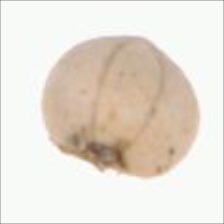L5: (91, 36, 166, 152), (56, 133, 136, 176)
L6: (39, 35, 203, 181)
